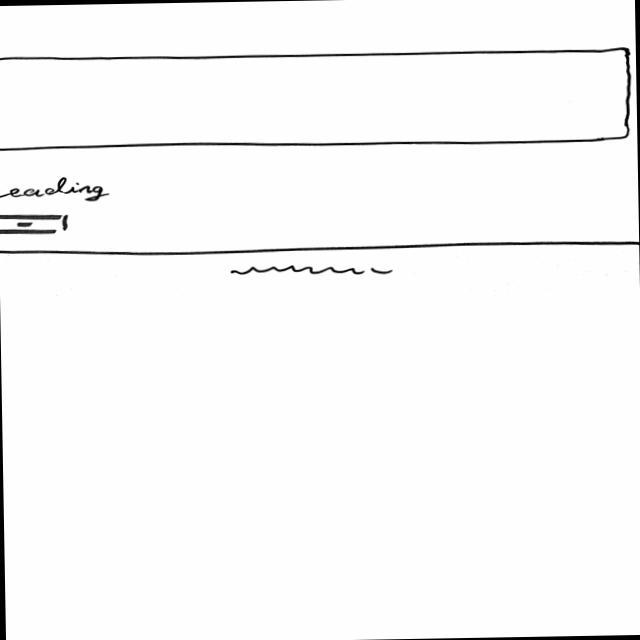container: (1, 42, 637, 156)
icon-button: (1, 212, 71, 236)
input: (1, 176, 112, 204)
text: (221, 264, 396, 280)
